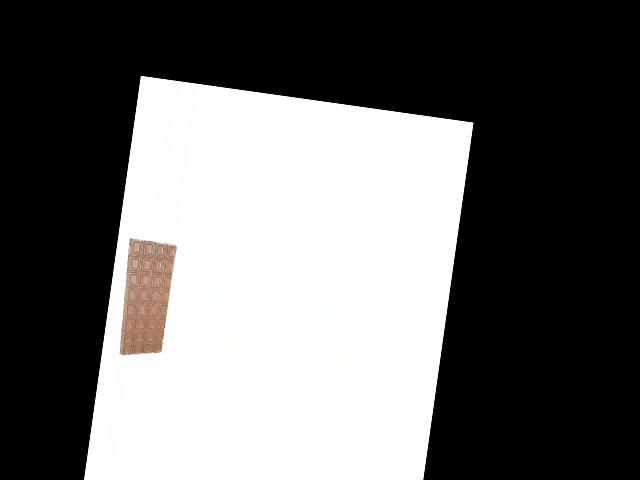chocolate: (114, 237, 177, 361)
